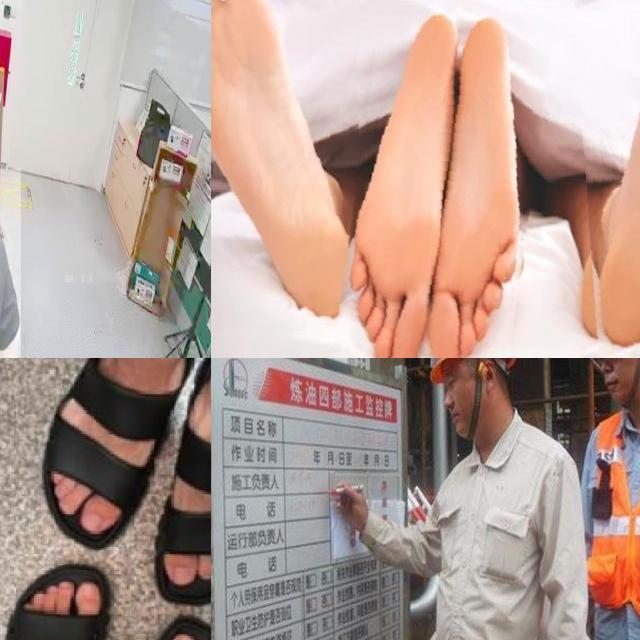Barefoots: (211, 0, 357, 339), (348, 0, 461, 358), (425, 17, 528, 358)
No_Ear-Protection: (425, 358, 514, 449), (590, 358, 640, 411)
Sandals: (29, 358, 173, 561), (130, 358, 211, 620), (0, 547, 114, 640)
